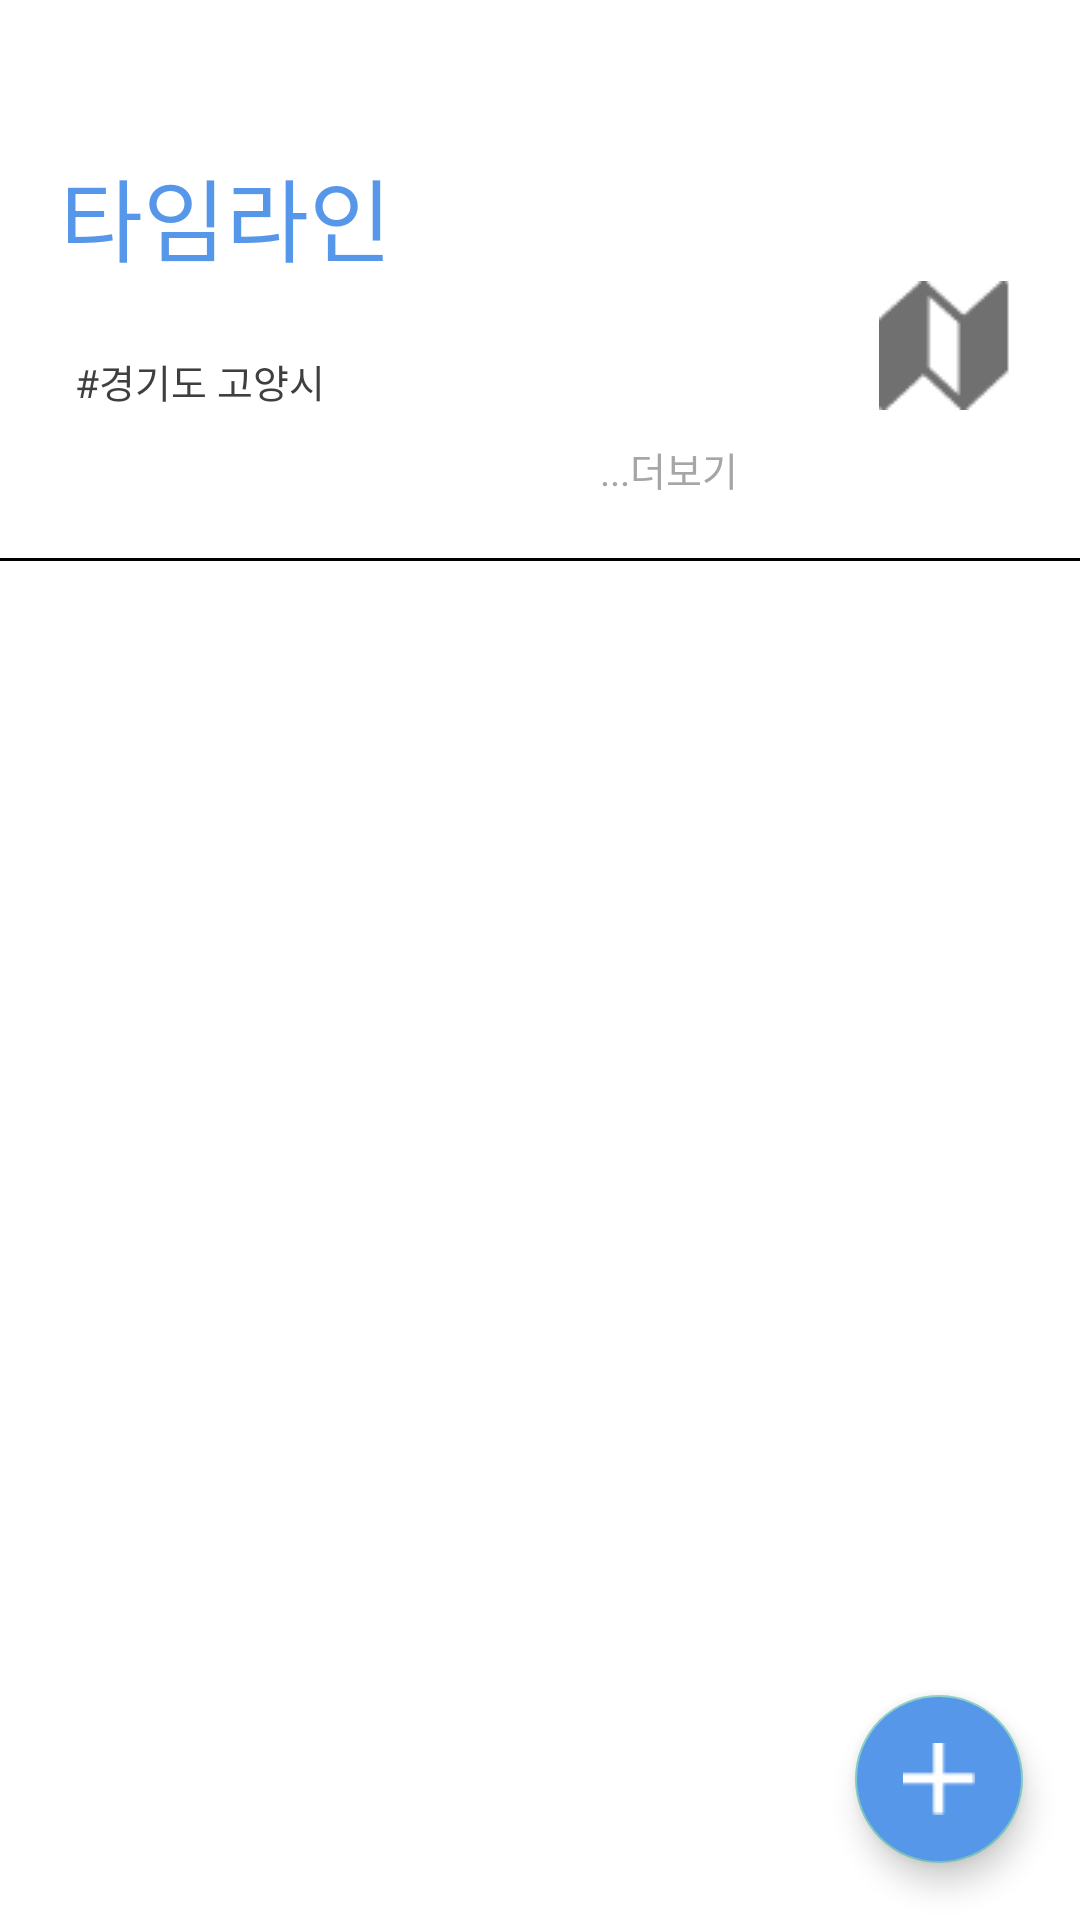

Icon click points for this 1080*1920 phone screenshot, format point (x, y):
map: point (944, 345)
plus: point (939, 1779)
